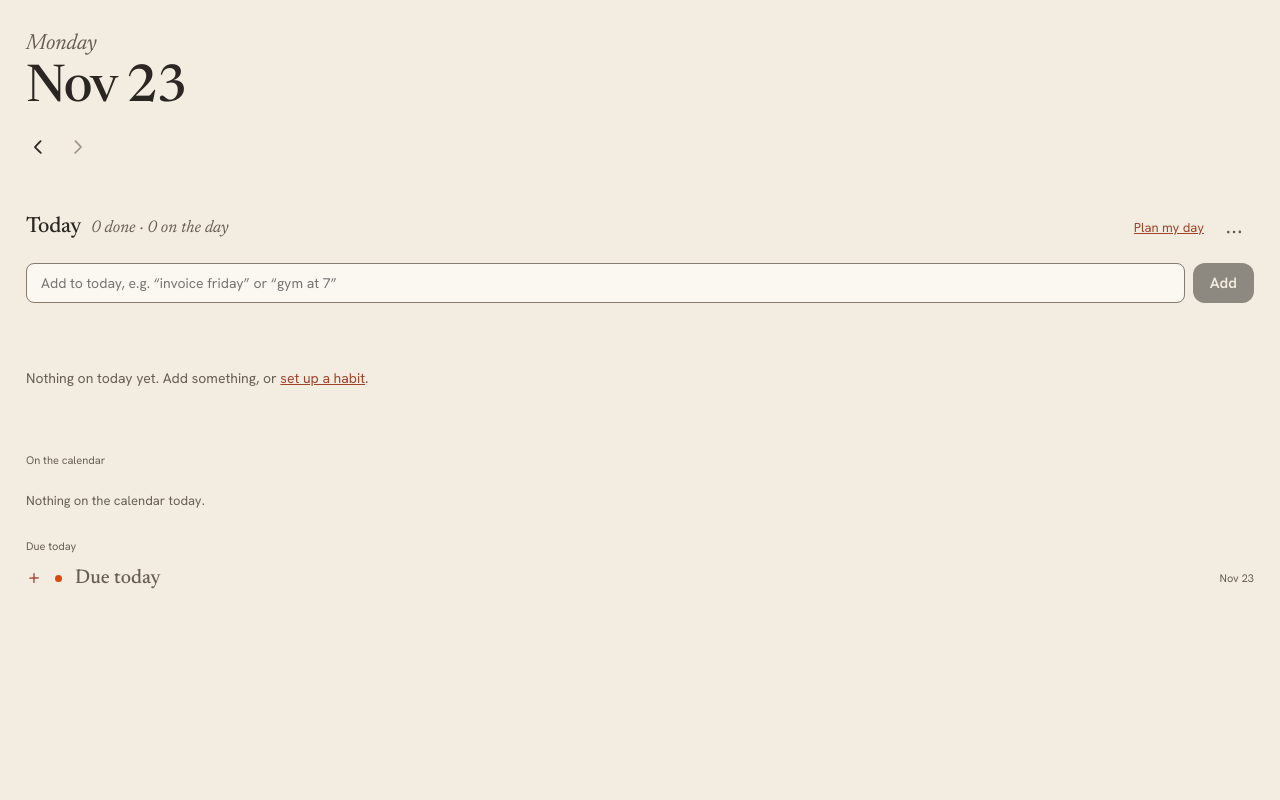
Test: <TodayView> the day picker › hands out nothing that could change a past day
Check: the field labelled "Add to today" is shown, box [26, 263, 1185, 303]
Check: the button named "Add Due today to today" is shown, box [26, 570, 42, 586]
Click the button named "Previous day" at point(38, 147), box [18, 127, 58, 167]
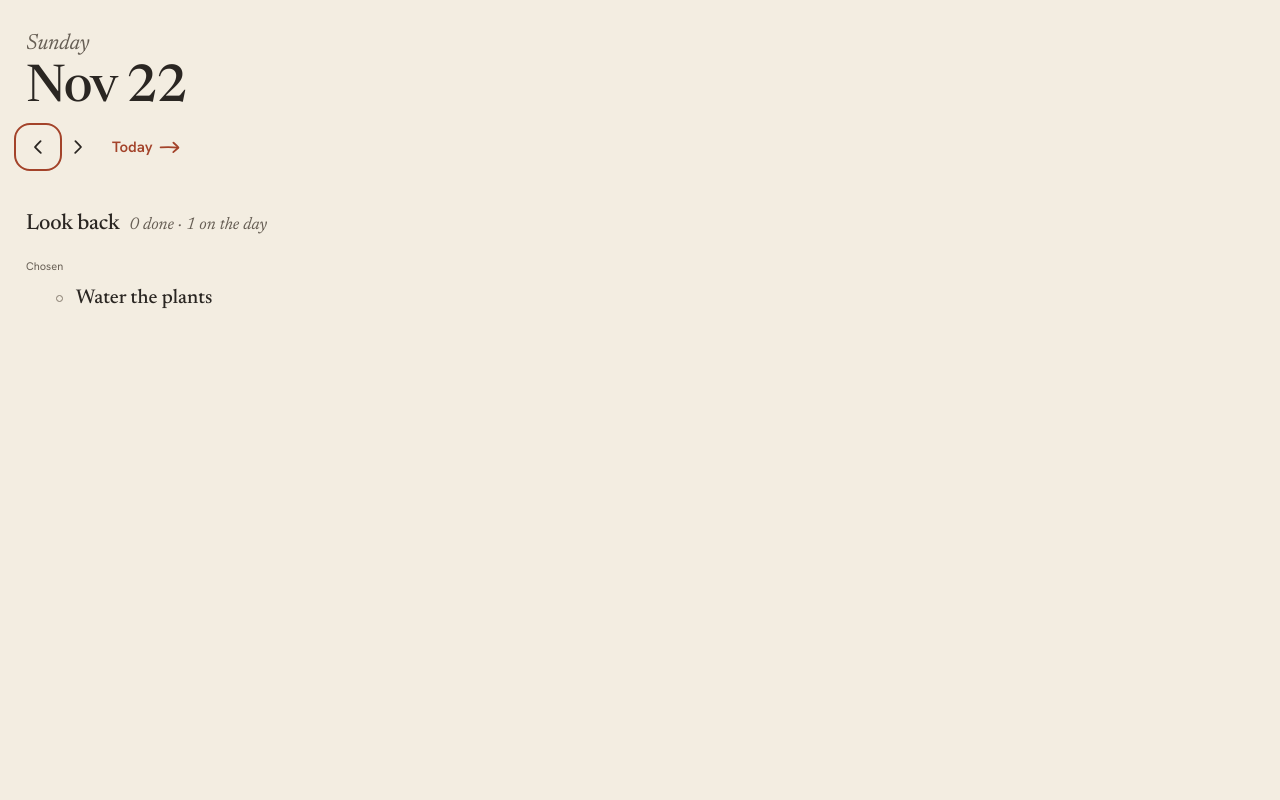
Check: the field labelled "Add to today" is not shown
Check: the text "Water the plants" is shown, box [76, 288, 212, 308]
Check: the text "Look back" is shown, box [26, 208, 120, 241]
